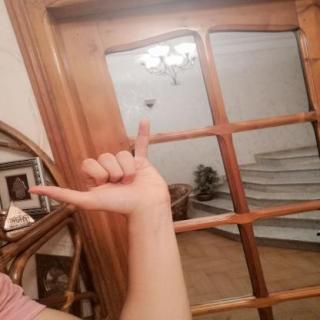YA: (14, 110, 187, 225)
